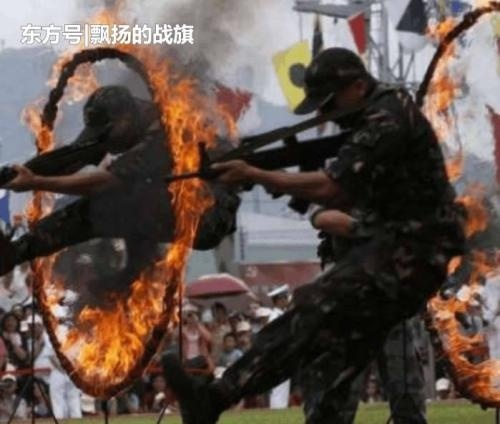fire: (14, 20, 250, 383)
